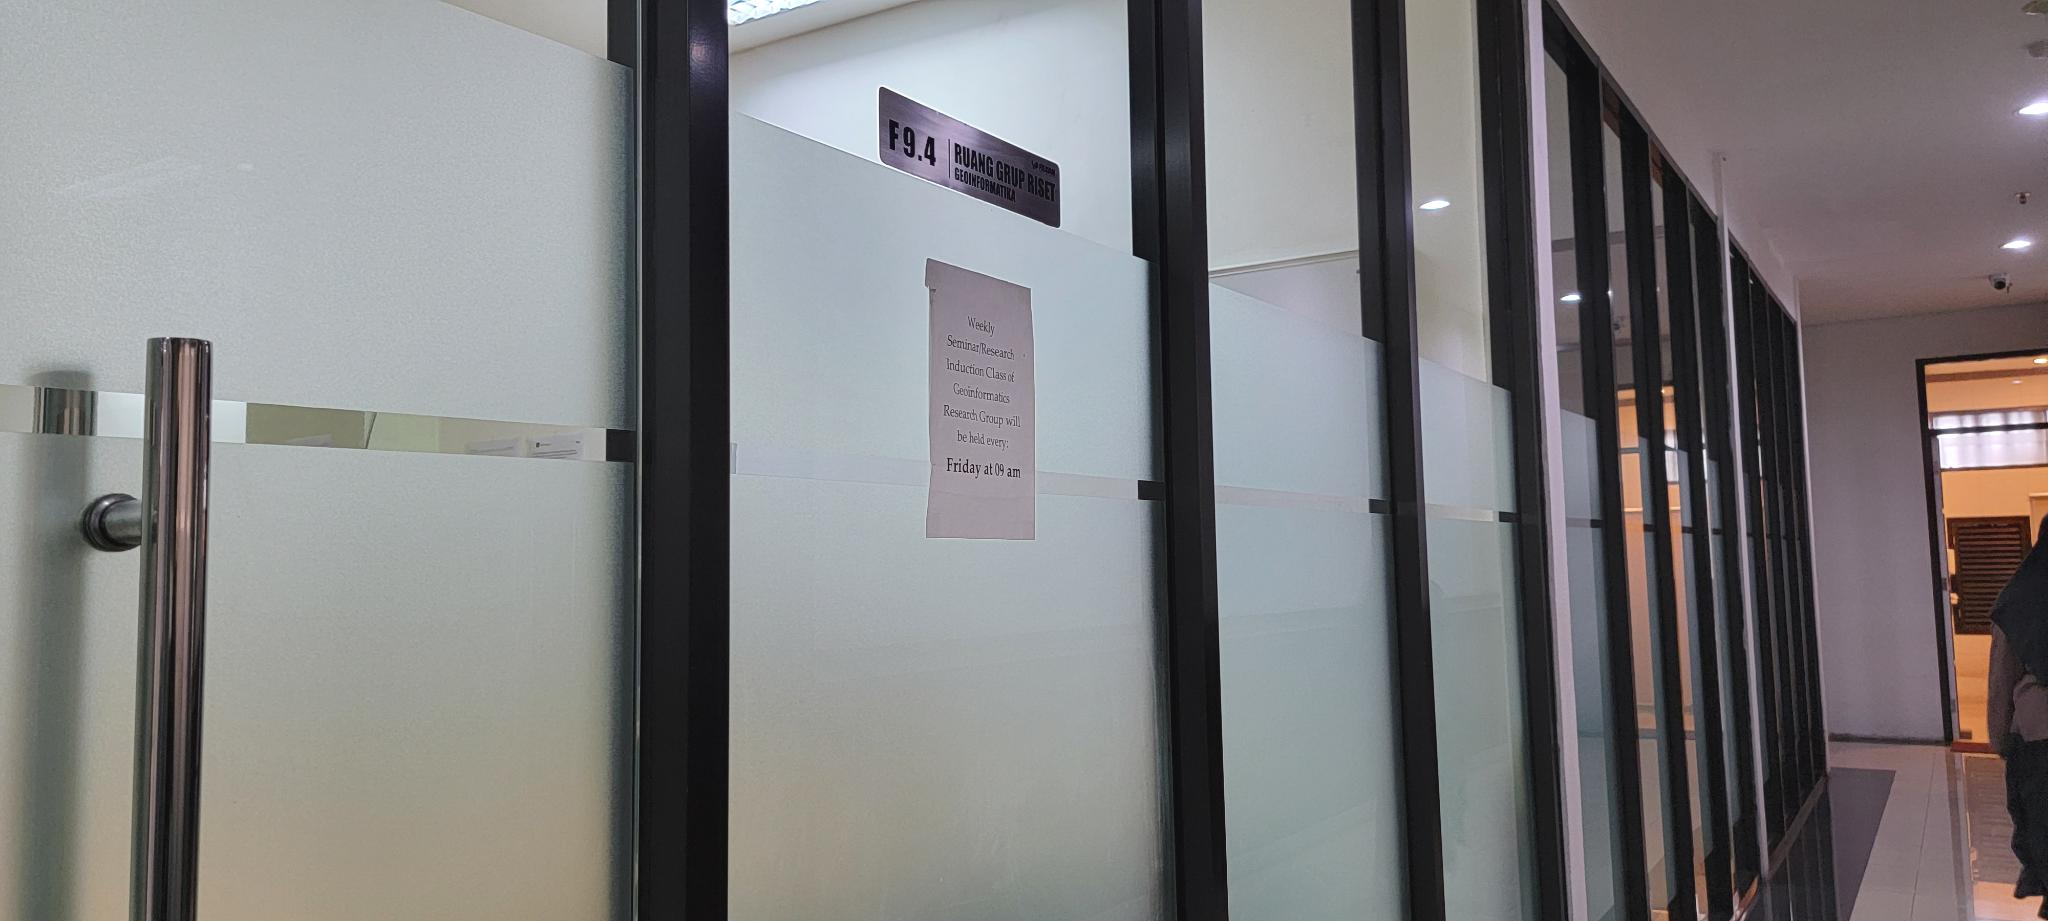plate: (878, 82, 1063, 231)
